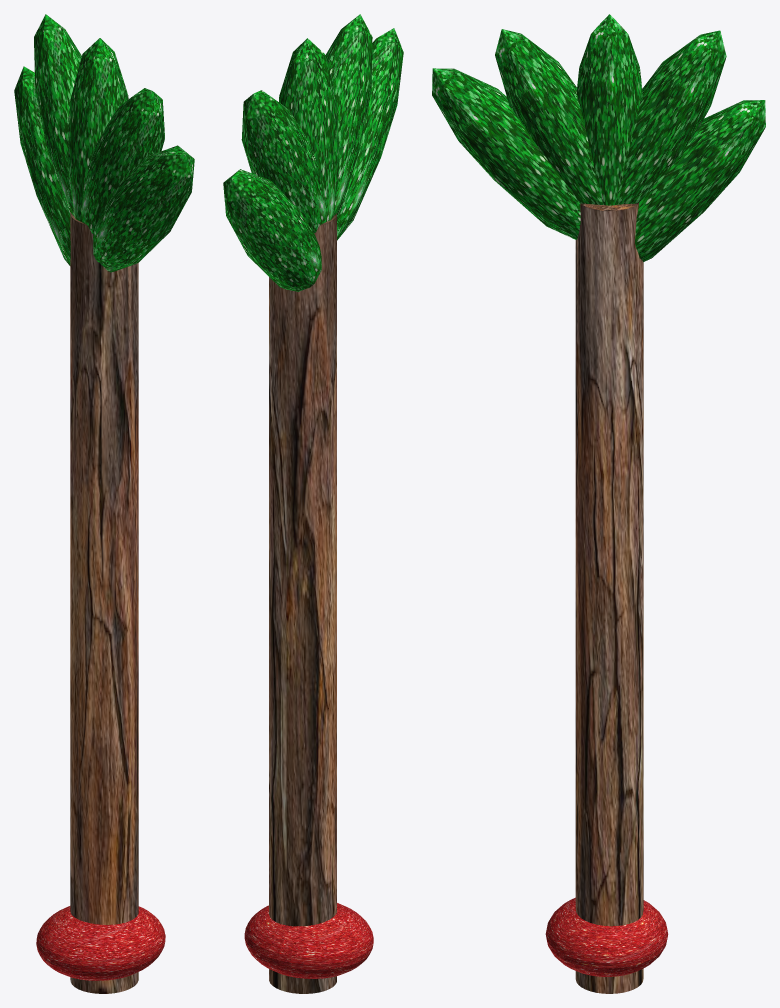
File: Flechas3.obj
3 views of the same model, side by side, from view 1: azimuth 30°, elevation 25°; view 2: azimuth 150°, elevation 25°; view 3: azimuth 270°, elevation 25° (orthographic). The views are drawn at different scales.
Parts seen in each view (by area): view 1: Cylinder, Icosphere.003, Sphere, Icosphere.002, Icosphere, Icosphere.001, Icosphere.004; view 2: Cylinder, Icosphere.004, Sphere, Icosphere.001, Icosphere, Icosphere.002, Icosphere.003; view 3: Cylinder, Icosphere.003, Icosphere.004, Icosphere.001, Icosphere.002, Icosphere, Sphere.
Part boxes in pixels (<box>): Cylinder: <box>70,212,138,993</box>; Icosphere.003: <box>93,145,194,272</box>; Sphere: <box>36,906,165,980</box>; Icosphere.002: <box>81,88,164,233</box>; Icosphere: <box>68,38,128,222</box>; Icosphere.001: <box>34,14,81,215</box>; Icosphere.004: <box>14,66,70,265</box>; Cylinder: <box>269,213,336,993</box>; Icosphere.004: <box>223,169,321,291</box>; Sphere: <box>244,903,373,978</box>; Icosphere.001: <box>241,90,326,233</box>; Icosphere: <box>279,38,339,223</box>; Icosphere.002: <box>325,14,372,216</box>; Icosphere.003: <box>337,28,403,240</box>; Cylinder: <box>575,203,643,993</box>; Icosphere.003: <box>432,68,580,239</box>; Icosphere.004: <box>635,100,765,262</box>; Icosphere.001: <box>616,30,726,204</box>; Icosphere.002: <box>495,29,602,204</box>; Icosphere: <box>576,14,642,205</box>; Sphere: <box>545,897,668,976</box>.
Bounding box in the file's own units: 0.4717 × 3.7 × 1.16.
7 materials, 7 textured.
